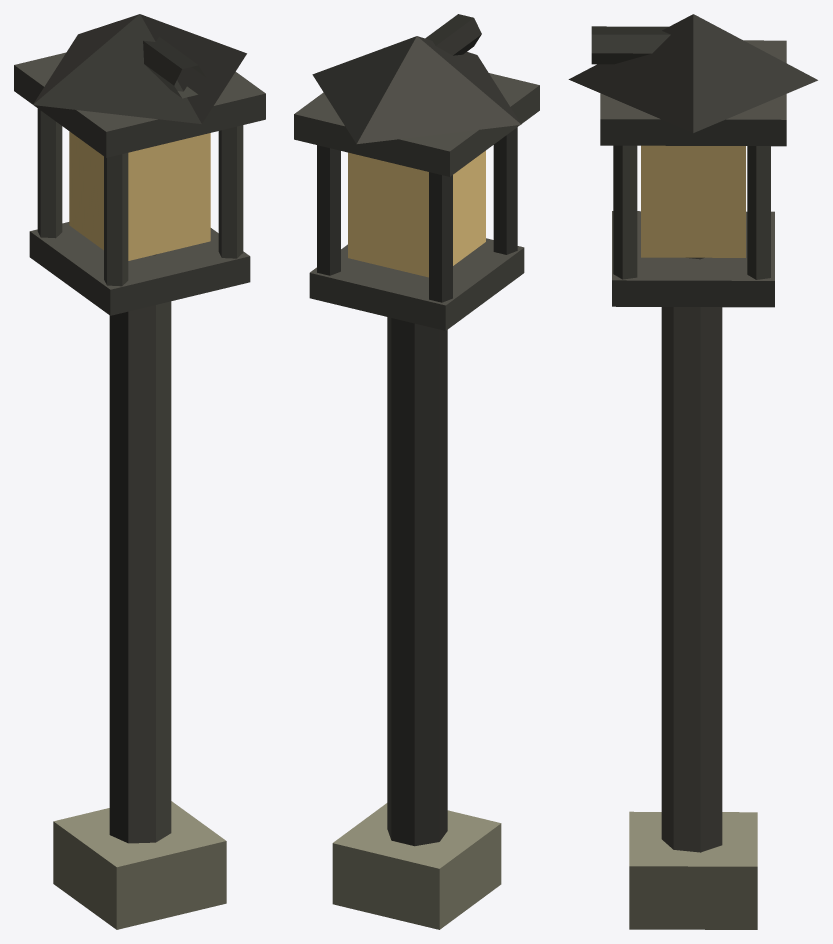
3 renders of one model, left to right at view 1: azimuth 30°, elevation 25°; view 2: azimuth 150°, elevation 25°; view 3: azimuth 270°, elevation 25°, orthographic. The views are drawn at different scales.
Visible parts, largest first — view 1: 38a9493e22dff9108a037f64af2255b0eab589c16dcec257d87f8c2223f7; view 2: 38a9493e22dff9108a037f64af2255b0eab589c16dcec257d87f8c2223f7; view 3: 38a9493e22dff9108a037f64af2255b0eab589c16dcec257d87f8c2223f7.
Boxes of the visible parts, box(x1,y1,x2,y2) form: 38a9493e22dff9108a037f64af2255b0eab589c16dcec257d87f8c2223f7: box(14, 14, 265, 929); 38a9493e22dff9108a037f64af2255b0eab589c16dcec257d87f8c2223f7: box(294, 14, 539, 929); 38a9493e22dff9108a037f64af2255b0eab589c16dcec257d87f8c2223f7: box(568, 14, 817, 929).
Bounding box in the file's own units: 0.86 × 3.37 × 0.86.
2 materials, 1 textured.
